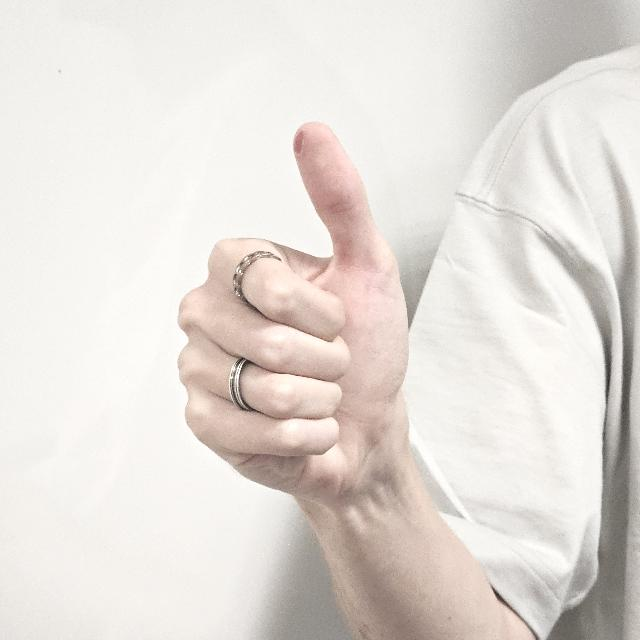Start: (176, 116, 418, 528)
